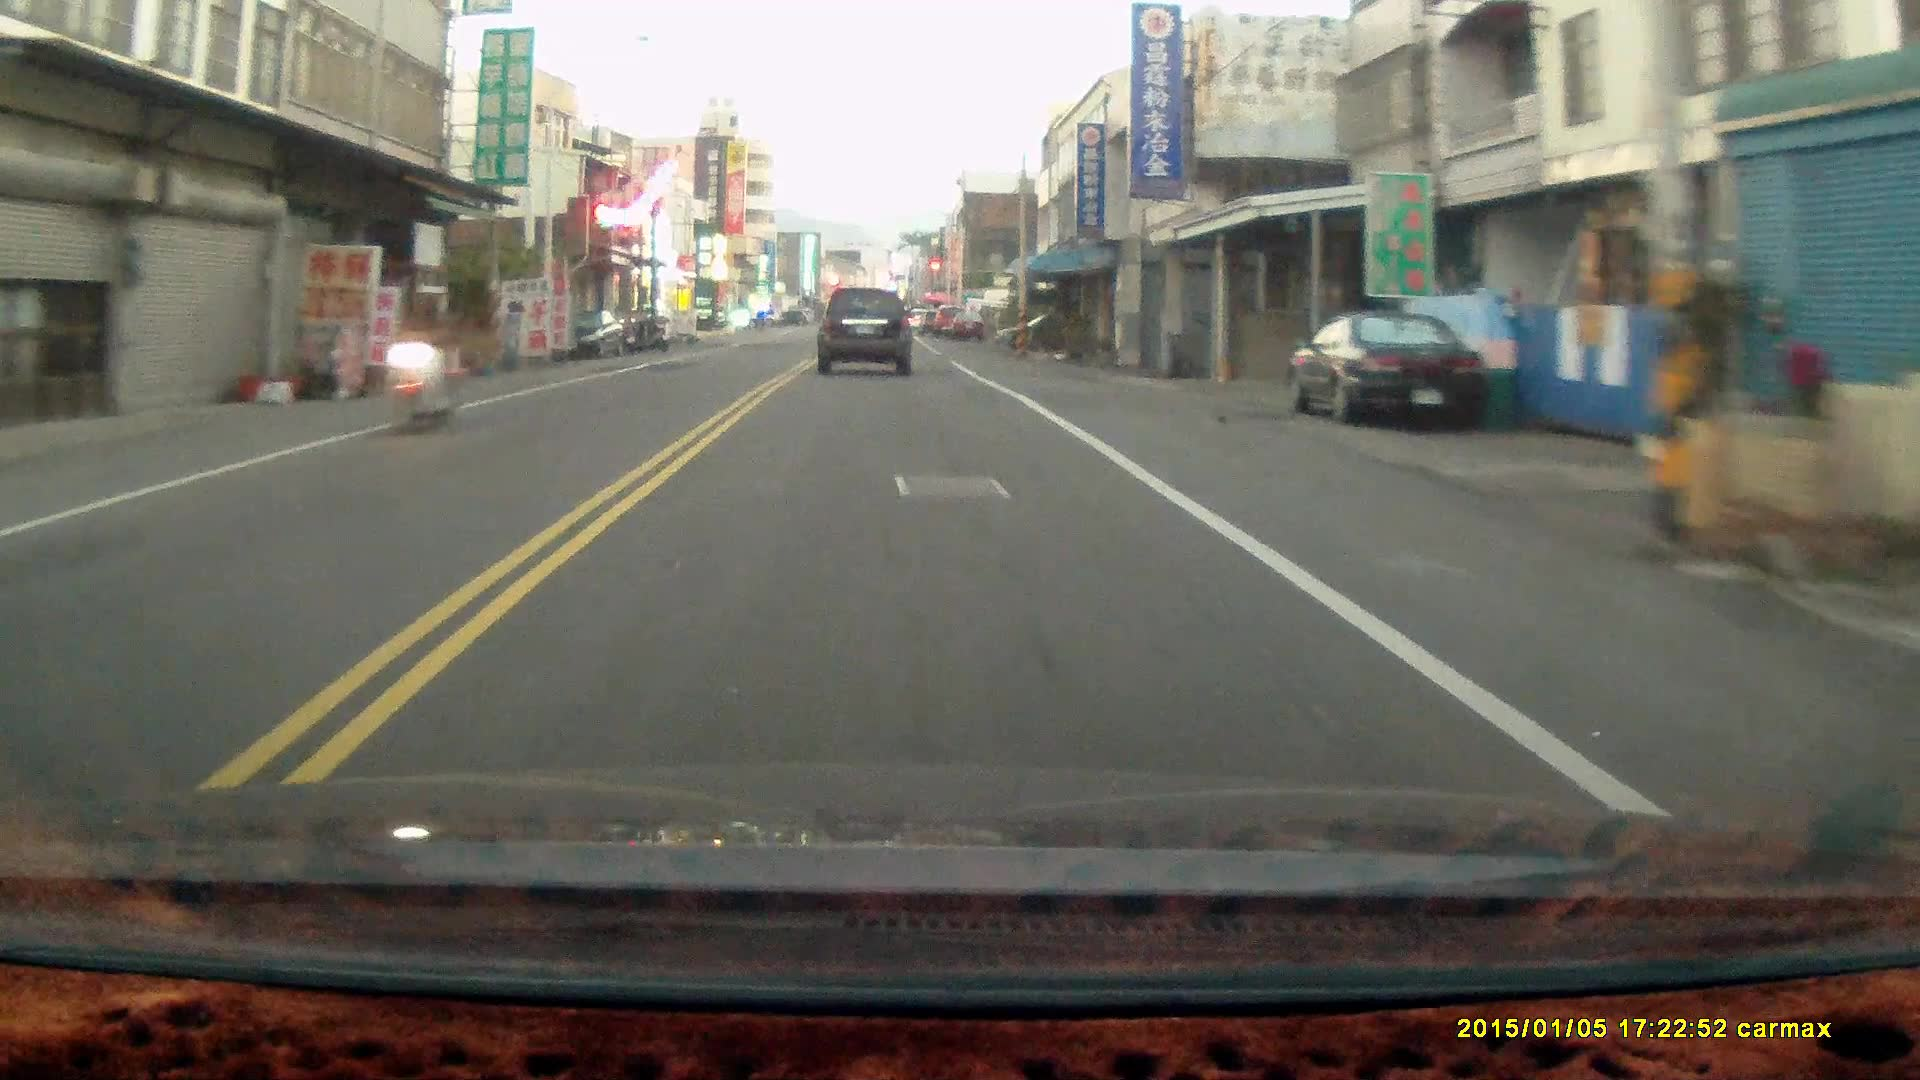rider: (376, 285, 455, 436)
vehicle: (1291, 309, 1498, 432), (817, 290, 914, 381)
